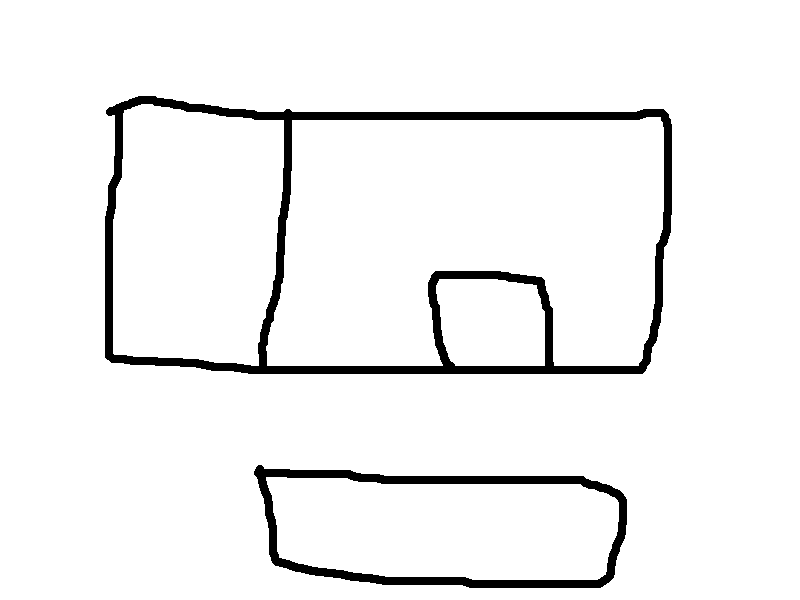dog: (95, 88, 297, 375), (247, 458, 634, 596), (425, 262, 563, 381)
rect: (94, 90, 676, 385)
